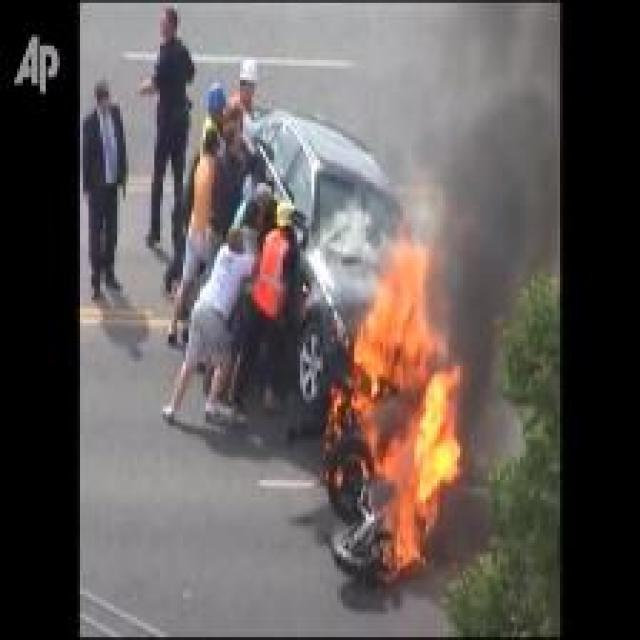Fire: (328, 223, 462, 577)
